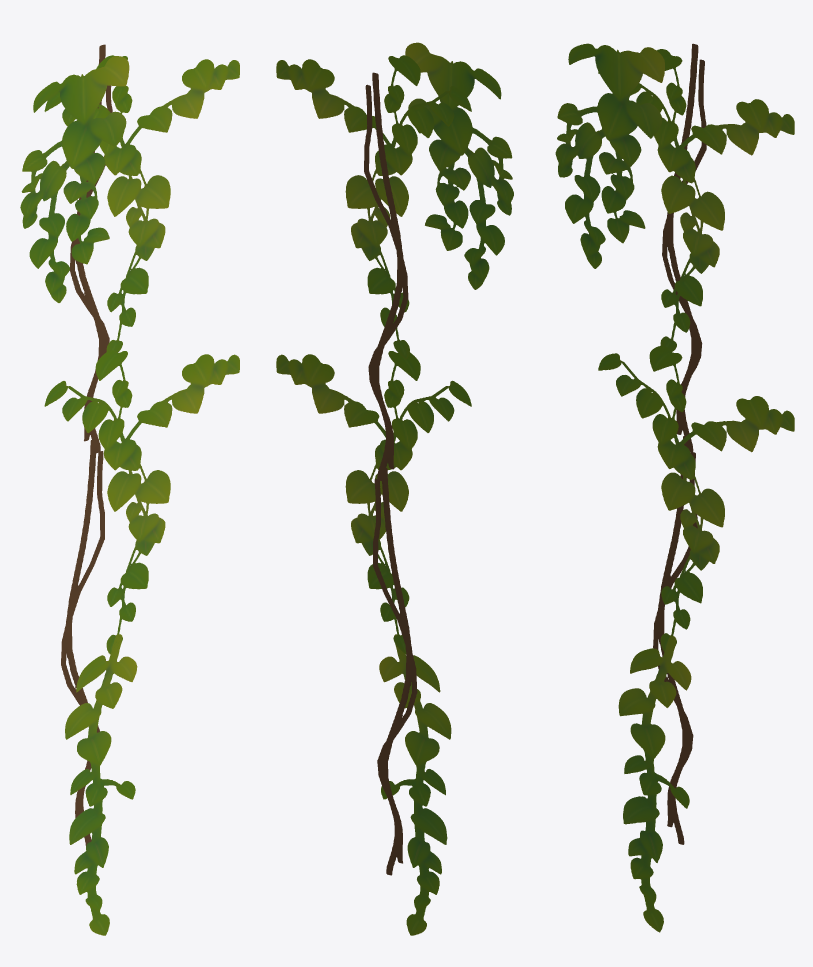
The model's file is Vine01.fbx.
3 views of the same model, side by side, from view 1: azimuth 30°, elevation 25°; view 2: azimuth 150°, elevation 25°; view 3: azimuth 330°, elevation 25° (orthographic).
Visible parts, largest first — view 1: Vine.001; view 2: Vine.001; view 3: Vine.001.
Part boxes in pixels (bbox=[...]): Vine.001: bbox=[20, 44, 239, 935]; Vine.001: bbox=[276, 42, 513, 935]; Vine.001: bbox=[555, 43, 794, 932].
Size of the model in its own units: 221 by 802 by 45.14.
